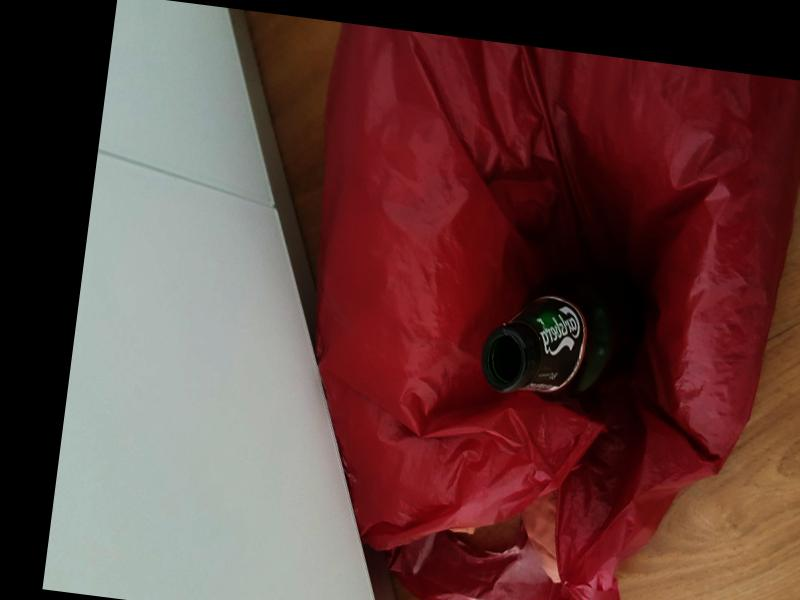Beer: (479, 262, 650, 409)
